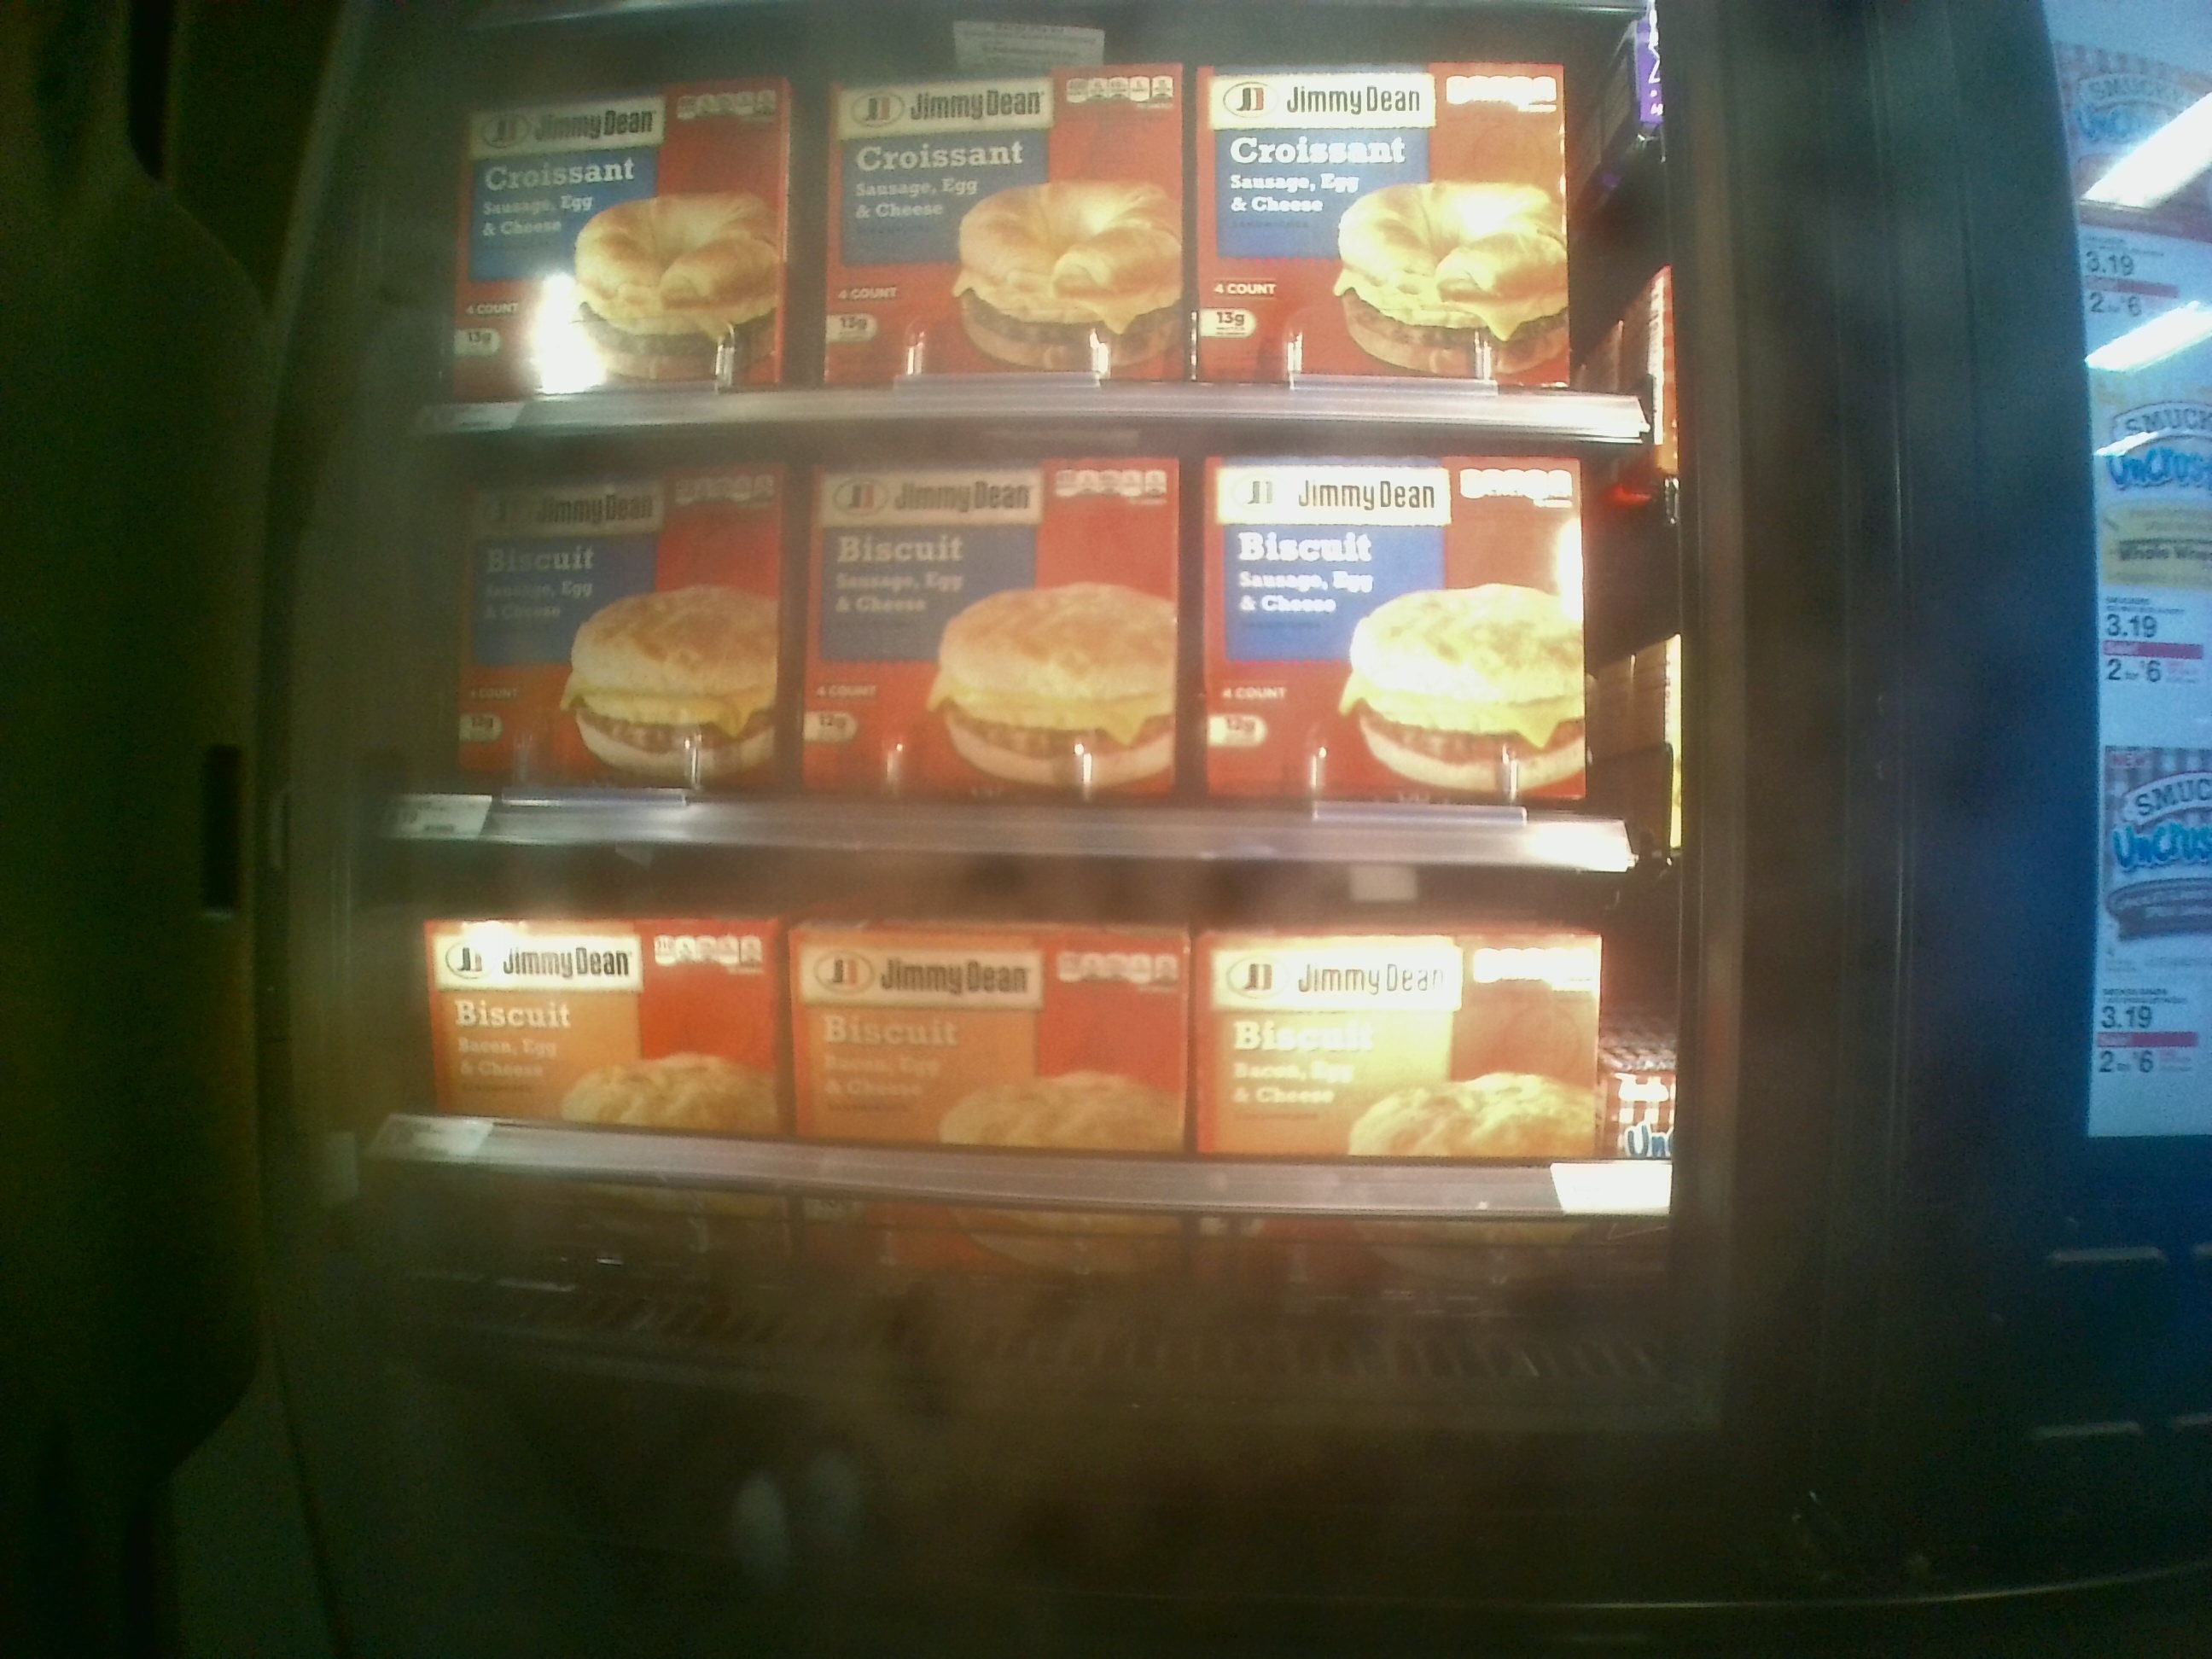frozen-food-shelf: (359, 831, 1662, 1215)
